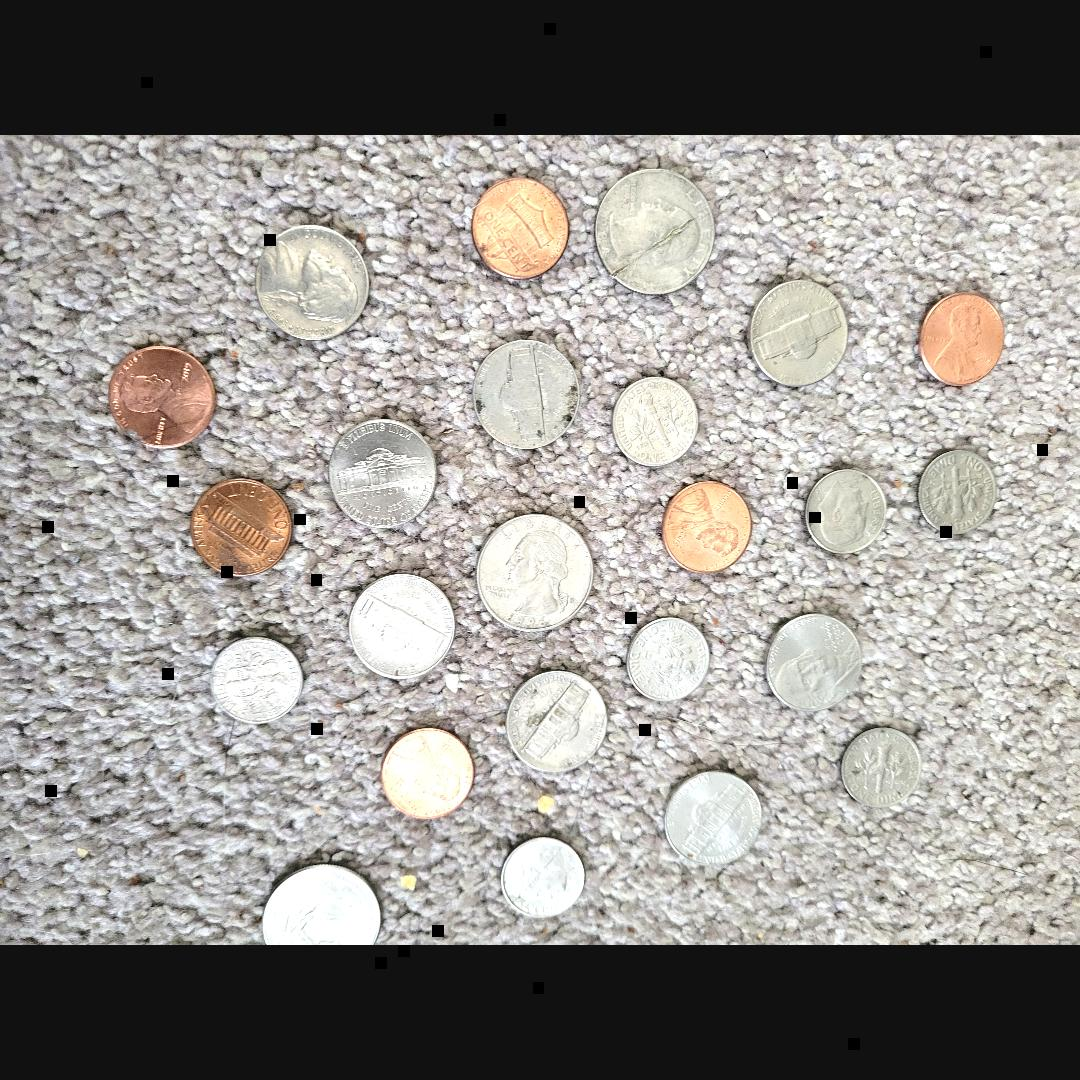Dime: (910, 440, 1012, 534), (603, 374, 704, 468), (796, 466, 898, 559), (204, 636, 306, 728), (834, 722, 936, 814), (616, 612, 718, 704), (492, 834, 592, 926)
Nickel: (254, 222, 372, 344), (465, 336, 583, 458), (324, 414, 442, 534), (344, 570, 461, 684), (500, 666, 614, 778), (763, 607, 868, 721), (660, 765, 768, 873), (748, 275, 850, 385)
Penny: (110, 343, 214, 455), (190, 474, 294, 580), (912, 282, 1014, 390), (472, 172, 572, 280), (656, 476, 756, 582), (380, 722, 477, 824)
Quarter: (594, 164, 716, 292), (476, 512, 594, 634), (261, 857, 379, 945)
